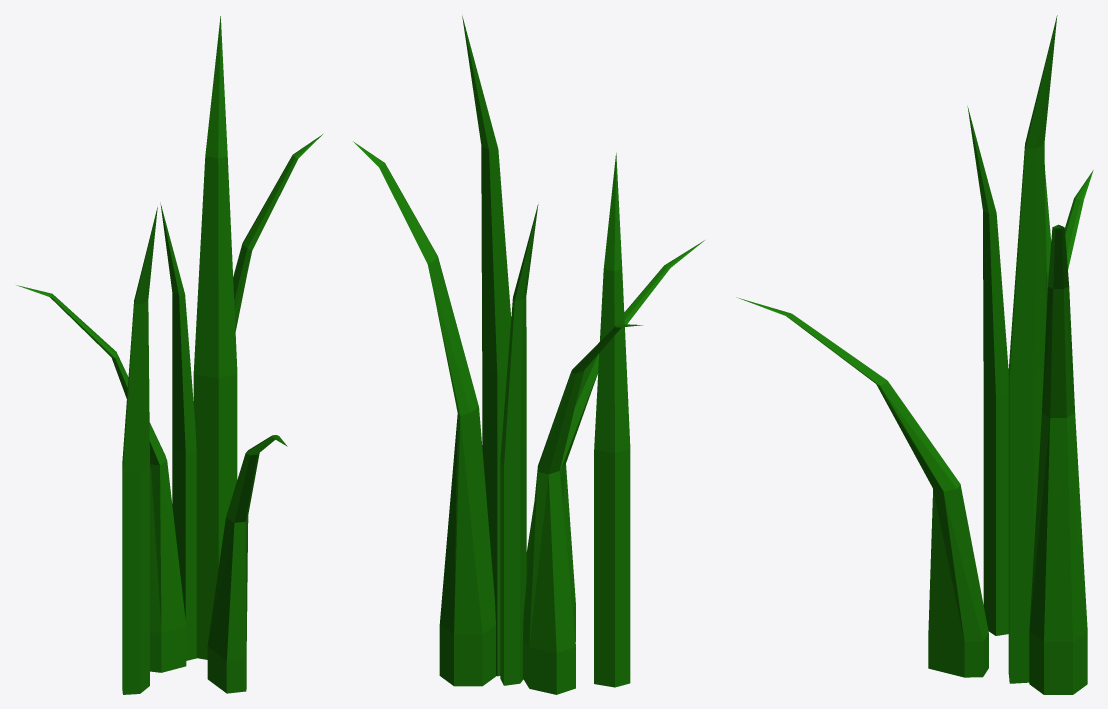
File: Grass.obj
3 views of the same model, side by side, from view 1: azimuth 30°, elevation 25°; view 2: azimuth 150°, elevation 25°; view 3: azimuth 270°, elevation 25° (orthographic). The views are drawn at different scales.
Visible parts, largest first — view 1: 柱体.003, 柱体.005, 柱体.004, 柱体.001, 柱体.002, 柱体; view 2: 柱体, 柱体.005, 柱体.001, 柱体.003, 柱体.004, 柱体.002; view 3: 柱体, 柱体.003, 柱体.002, 柱体.005, 柱体.001.
Part boxes in pixels (x1=…): 柱体.003: x1=193, y1=16, x2=237, y2=659; 柱体.005: x1=122, y1=207, x2=157, y2=694; 柱体.004: x1=160, y1=202, x2=196, y2=660; 柱体.001: x1=16, y1=285, x2=186, y2=672; 柱体.002: x1=207, y1=435, x2=287, y2=693; 柱体: x1=233, y1=134, x2=322, y2=330; 柱体: x1=353, y1=141, x2=496, y2=686; 柱体.005: x1=594, y1=153, x2=630, y2=687; 柱体.001: x1=523, y1=324, x2=642, y2=694; 柱体.003: x1=462, y1=16, x2=511, y2=676; 柱体.004: x1=500, y1=204, x2=538, y2=685; 柱体.002: x1=526, y1=240, x2=704, y2=641; 柱体: x1=1029, y1=224, x2=1087, y2=694; 柱体.003: x1=1008, y1=15, x2=1057, y2=683; 柱体.002: x1=736, y1=297, x2=988, y2=677; 柱体.005: x1=967, y1=106, x2=1008, y2=635; 柱体.001: x1=1064, y1=170, x2=1093, y2=269.
Size of the model in its own units: 0.9321 by 1.91 by 0.9191.
